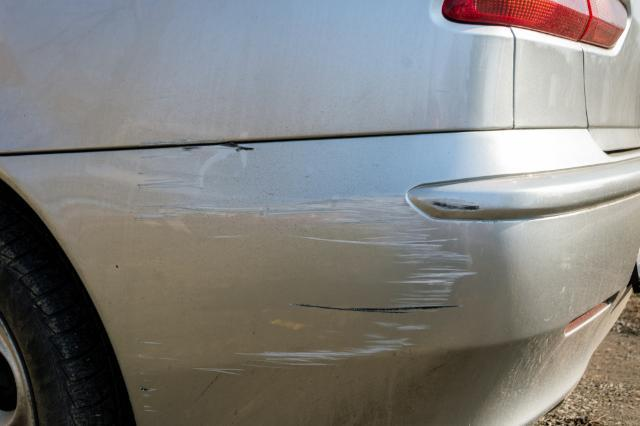scratch: (134, 141, 488, 426)
